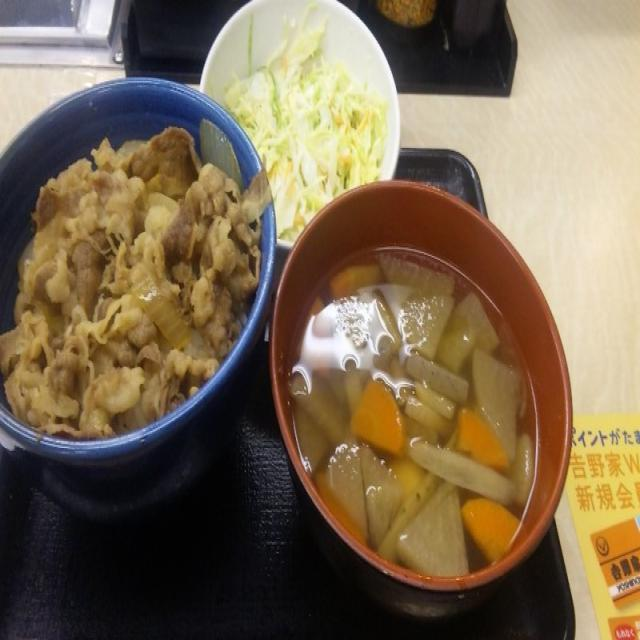Green Salad: (198, 0, 402, 182)
